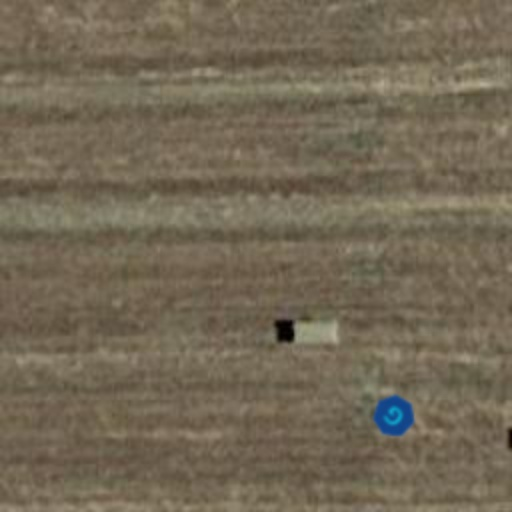heptagon: (362, 384, 426, 448)
